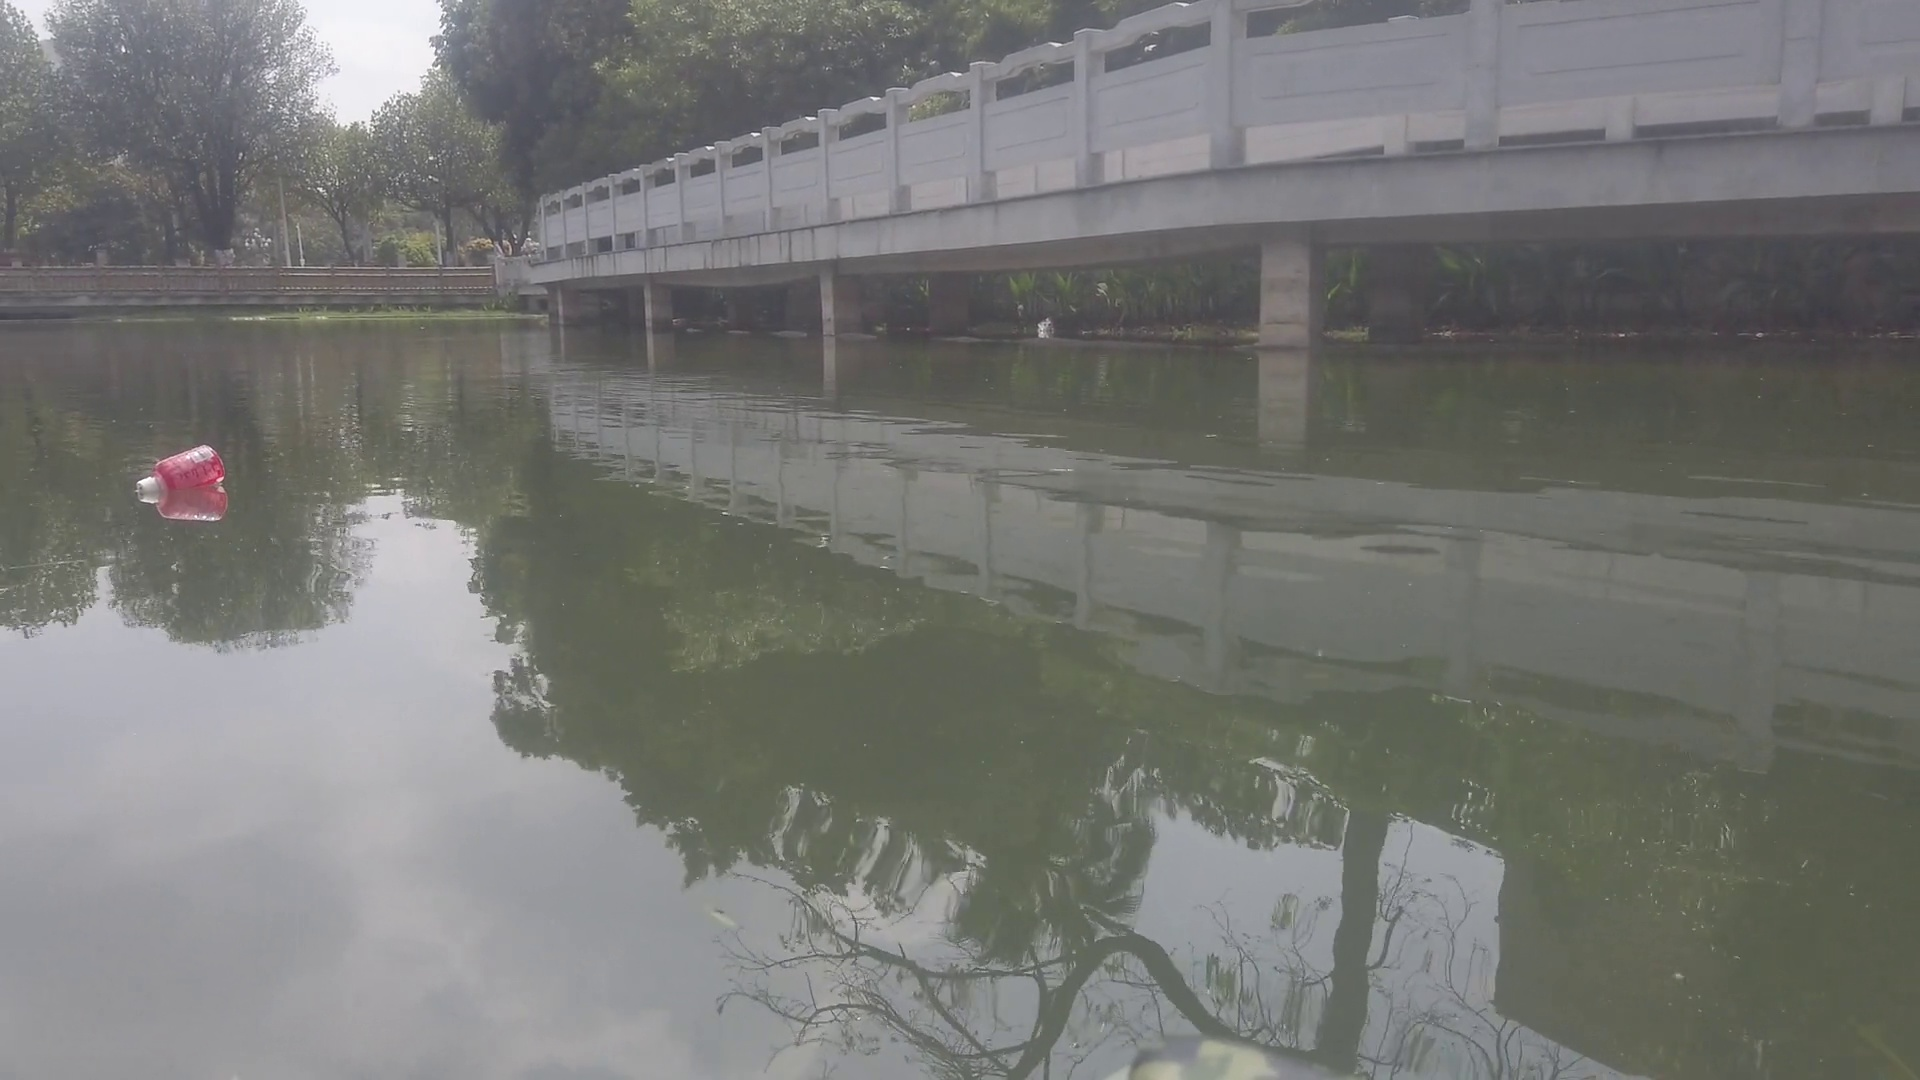bottle: (133, 443, 227, 498)
